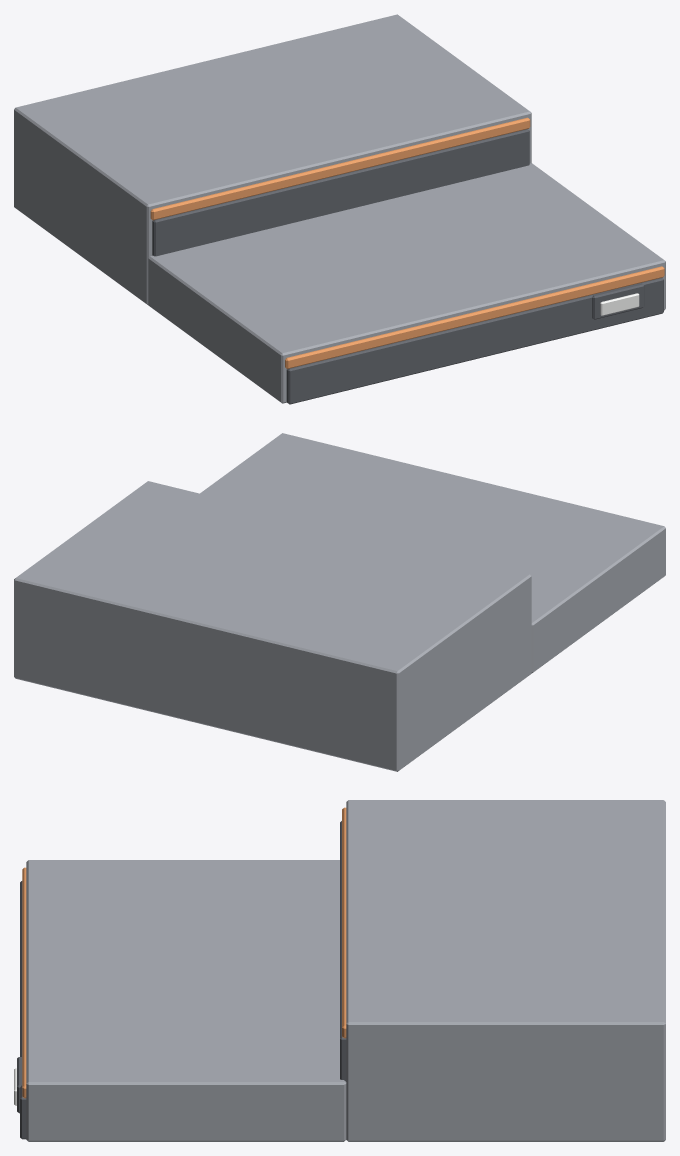
The model's file is university-lecture-hall-and-campus-aisle-step-module-db546e96__34736.glb.
3 renders of one model, top to bottom at view 1: azimuth 30°, elevation 25°; view 2: azimuth 150°, elevation 25°; view 3: azimuth 270°, elevation 25°, orthographic. The views are drawn at different scales.
Parts seen in each view (by area): view 1: aisle-step-module; view 2: aisle-step-module; view 3: aisle-step-module.
Boxes of the visible parts, left/top/right/bottom form: aisle-step-module: left=14, top=14, right=665, bottom=404; aisle-step-module: left=14, top=433, right=665, bottom=771; aisle-step-module: left=14, top=800, right=665, bottom=1141.
Size of the model in its own units: 1.2 by 0.3 by 1.48.
